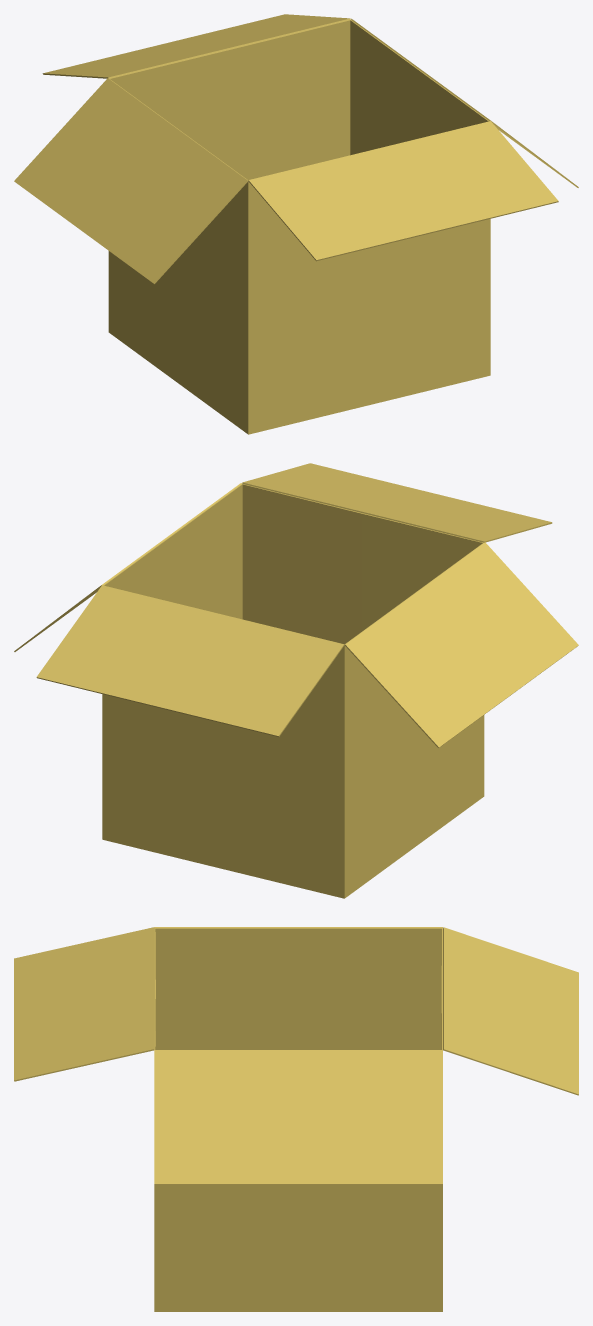
The model's file is KardusBuka.fbx.
The picture shows the model from 3 angles, top to bottom: view 1: azimuth 30°, elevation 25°; view 2: azimuth 150°, elevation 25°; view 3: azimuth 270°, elevation 25°; orthographic projection. The views are drawn at different scales.
Visible parts, largest first — view 1: Cube.020; view 2: Cube.020; view 3: Cube.020.
Boxes of the visible parts, x1=… form: Cube.020: x1=14, y1=14, x2=578, y2=434; Cube.020: x1=14, y1=463, x2=578, y2=898; Cube.020: x1=14, y1=927, x2=578, y2=1311.
Bounding box in the file's own units: 351 × 201 × 391.
